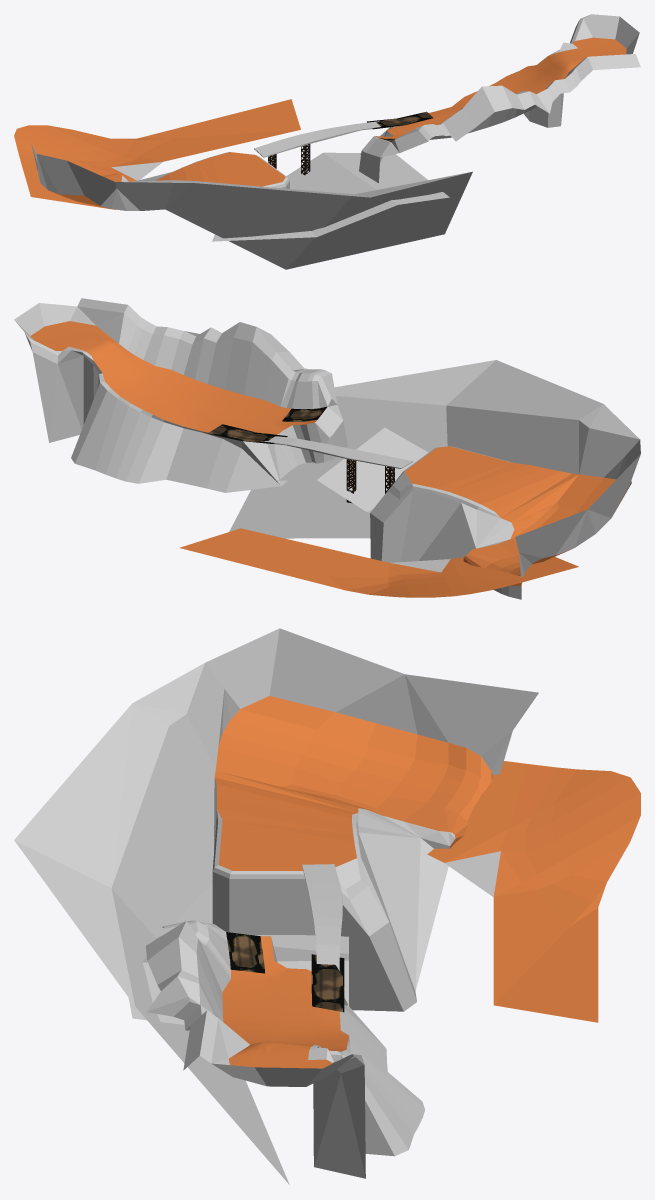
File: testtrack6.obj
3 renders of one model, top to bottom at view 1: azimuth 30°, elevation 25°; view 2: azimuth 150°, elevation 25°; view 3: azimuth 270°, elevation 25°, orthographic. The views are drawn at different scales.
Parts seen in each view (by area): view 1: Plane, Plane.001; view 2: Plane, Plane.001, Plane.002; view 3: Plane, Plane.001, Plane.002.
Part boxes in pixels (left/top/right/bottom): Plane: left=14, top=14, right=640, bottom=269; Plane.001: left=367, top=111, right=433, bottom=129; Plane: left=14, top=298, right=640, bottom=599; Plane.001: left=208, top=424, right=287, bottom=443; Plane.002: left=282, top=406, right=326, bottom=421; Plane: left=14, top=628, right=640, bottom=1184; Plane.001: left=311, top=954, right=344, bottom=1012; Plane.002: left=226, top=932, right=265, bottom=973.
Size of the model in its own units: 50.13 by 14.45 by 30.61.
